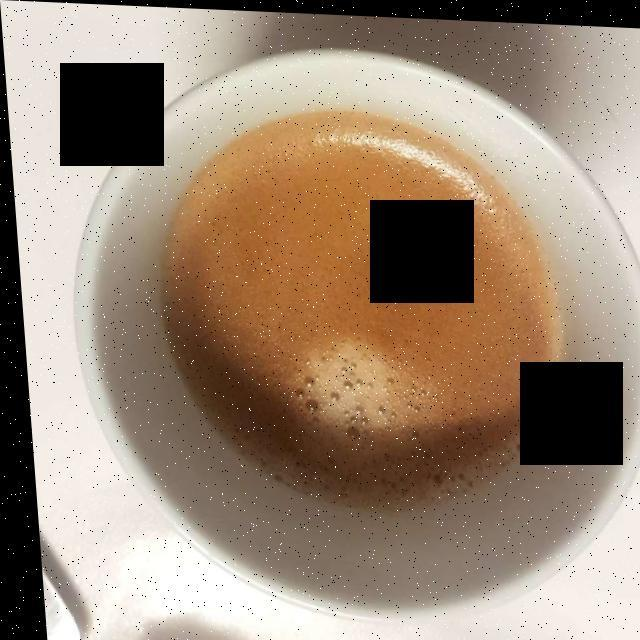coffee: (164, 118, 551, 499)
